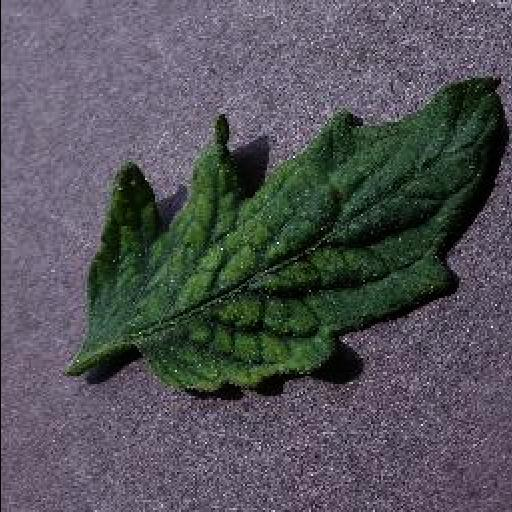Mosaic Virus: (89, 77, 511, 399)
